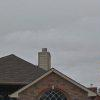Chimney: (34, 40, 52, 77)
